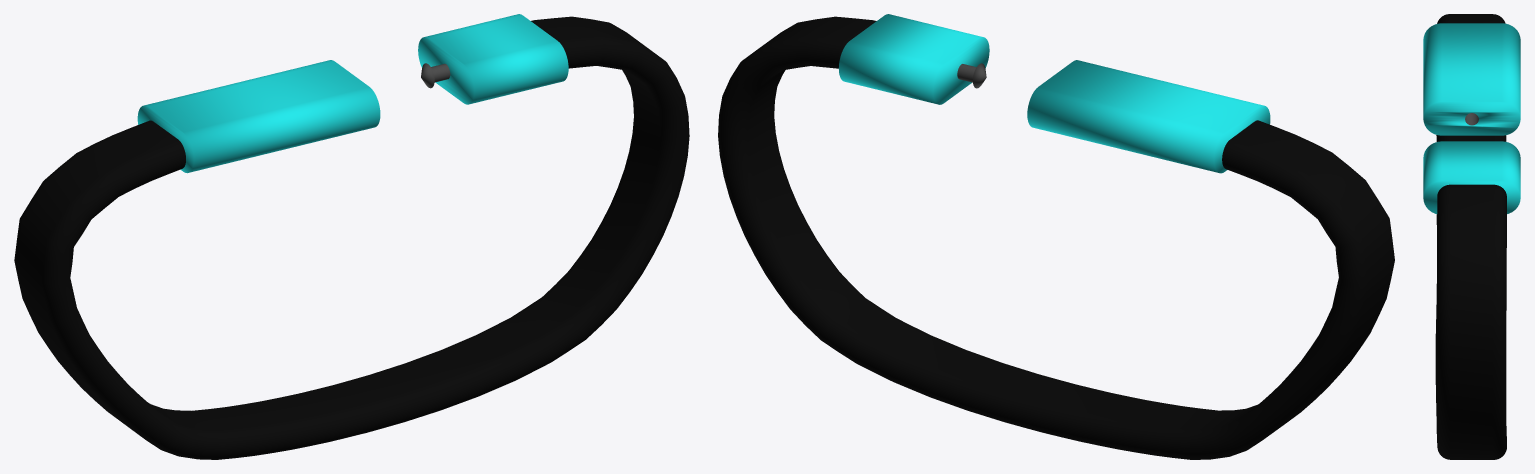
File: lowki.gltf
3 views of the same model, side by side, from view 1: azimuth 30°, elevation 25°; view 2: azimuth 150°, elevation 25°; view 3: azimuth 270°, elevation 25° (orthographic). The views are drawn at different scales.
Visible parts, largest first — view 1: Circle.003, Circle, Circle.001; view 2: Circle.003, Circle, Circle.001; view 3: Circle.003, Circle, Circle.001.
Boxes of the visible parts, x1,y1,x2,y2 form: Circle.003: (14, 16, 689, 459); Circle: (137, 60, 380, 173); Circle.001: (418, 14, 568, 104); Circle.003: (718, 16, 1394, 459); Circle: (1027, 60, 1270, 173); Circle.001: (838, 14, 989, 104); Circle.003: (1435, 14, 1506, 459); Circle: (1423, 23, 1520, 135); Circle.001: (1423, 141, 1520, 213).
Bounding box in the file's own units: 1.54 × 0.7926 × 0.2329.
